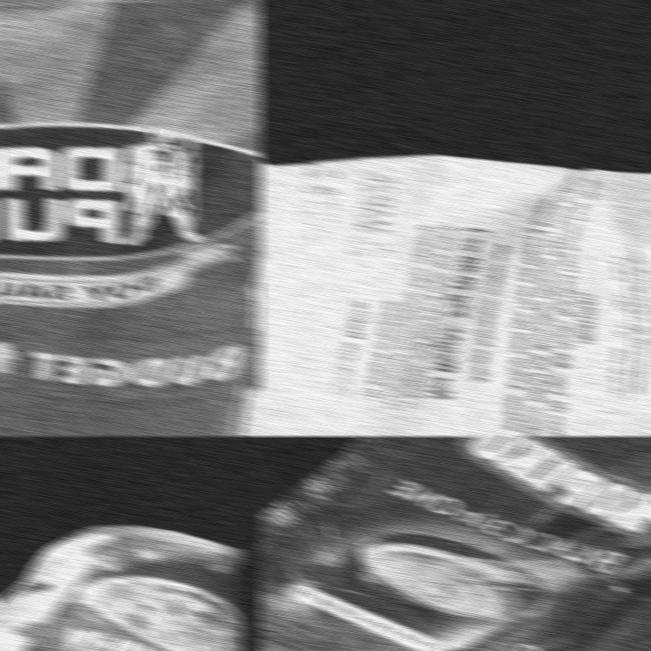Afritada: (0, 525, 245, 651)
Datu Puti soy sauce: (0, 0, 262, 436)
Tomi: (258, 154, 651, 436)
kopiko black: (258, 436, 651, 651)
